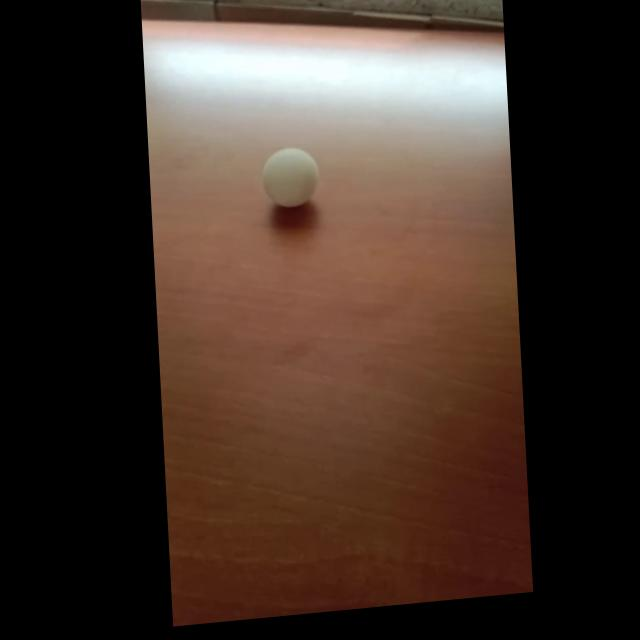white ball: (260, 144, 321, 210)
